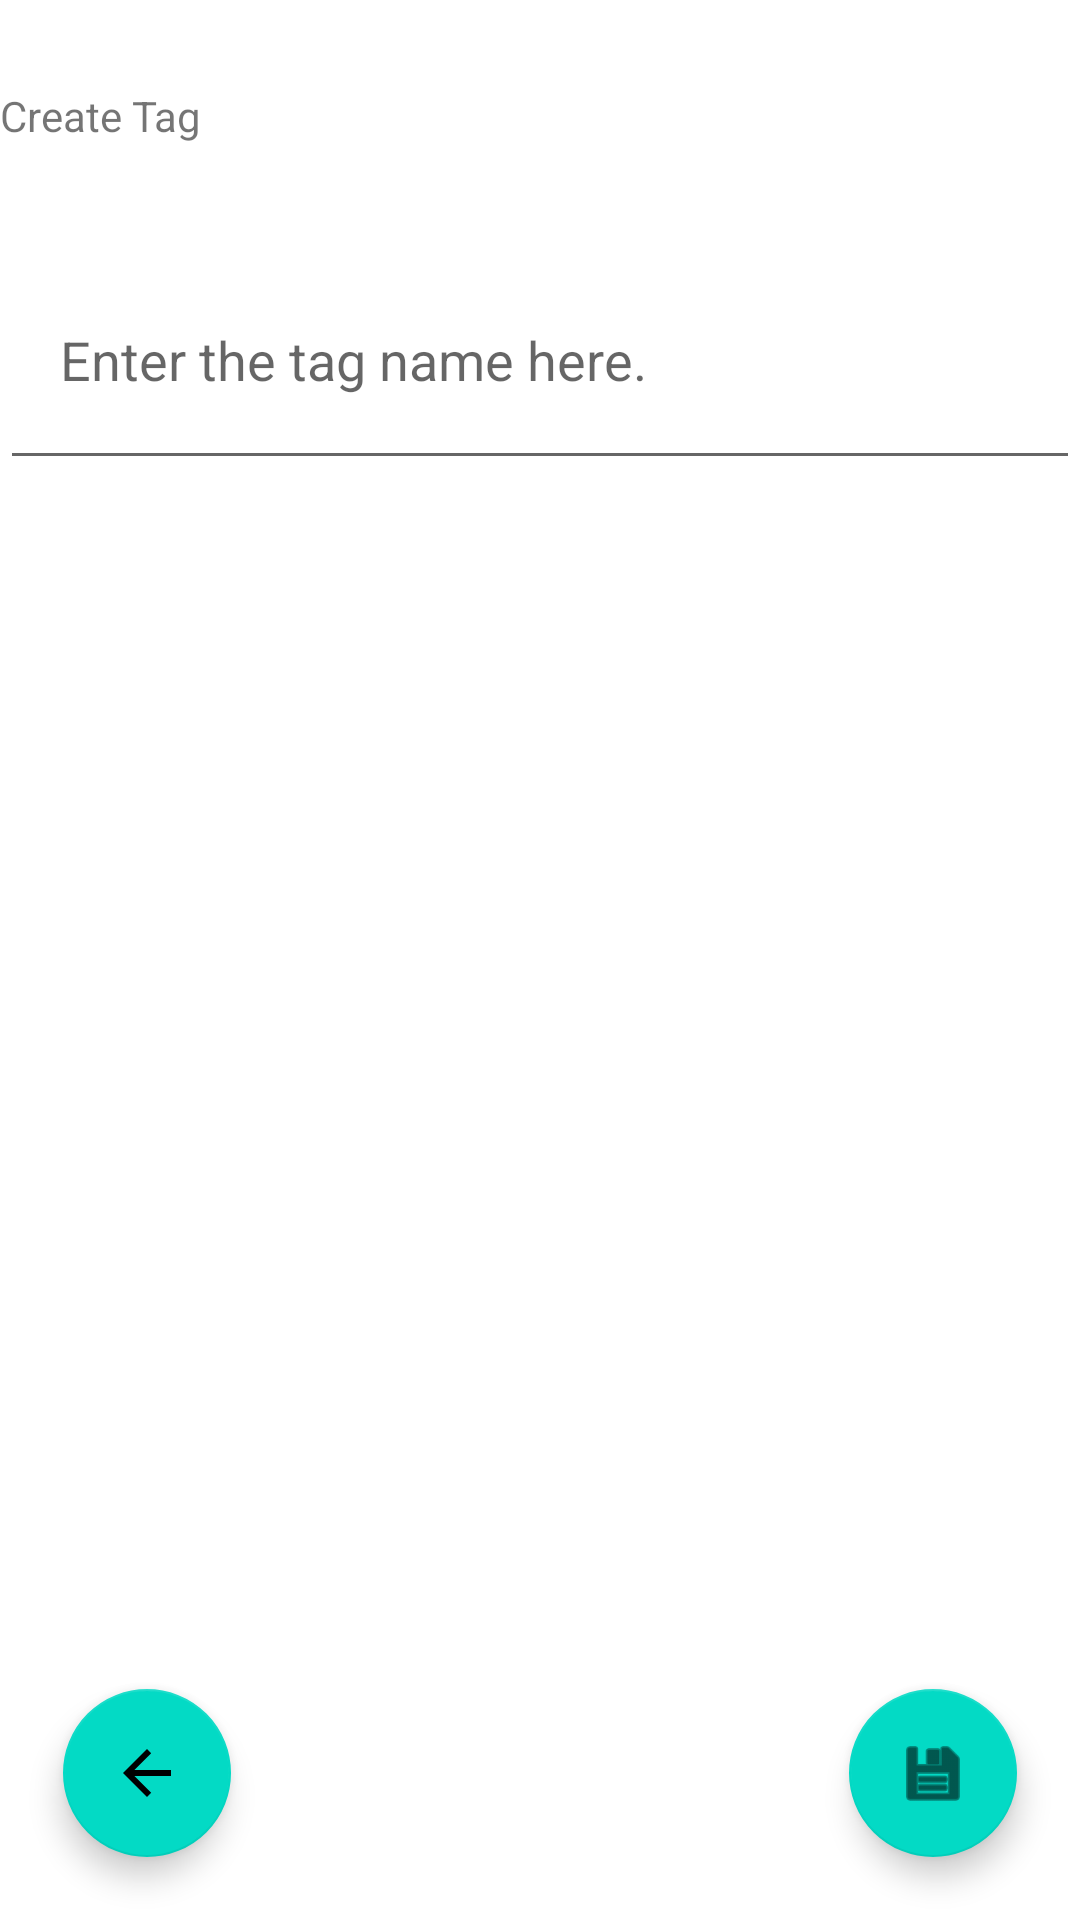

Where to tap for icons on this 1080 × 1920 app screen, as (x=x, y=y):
Save: (x=933, y=1773)
